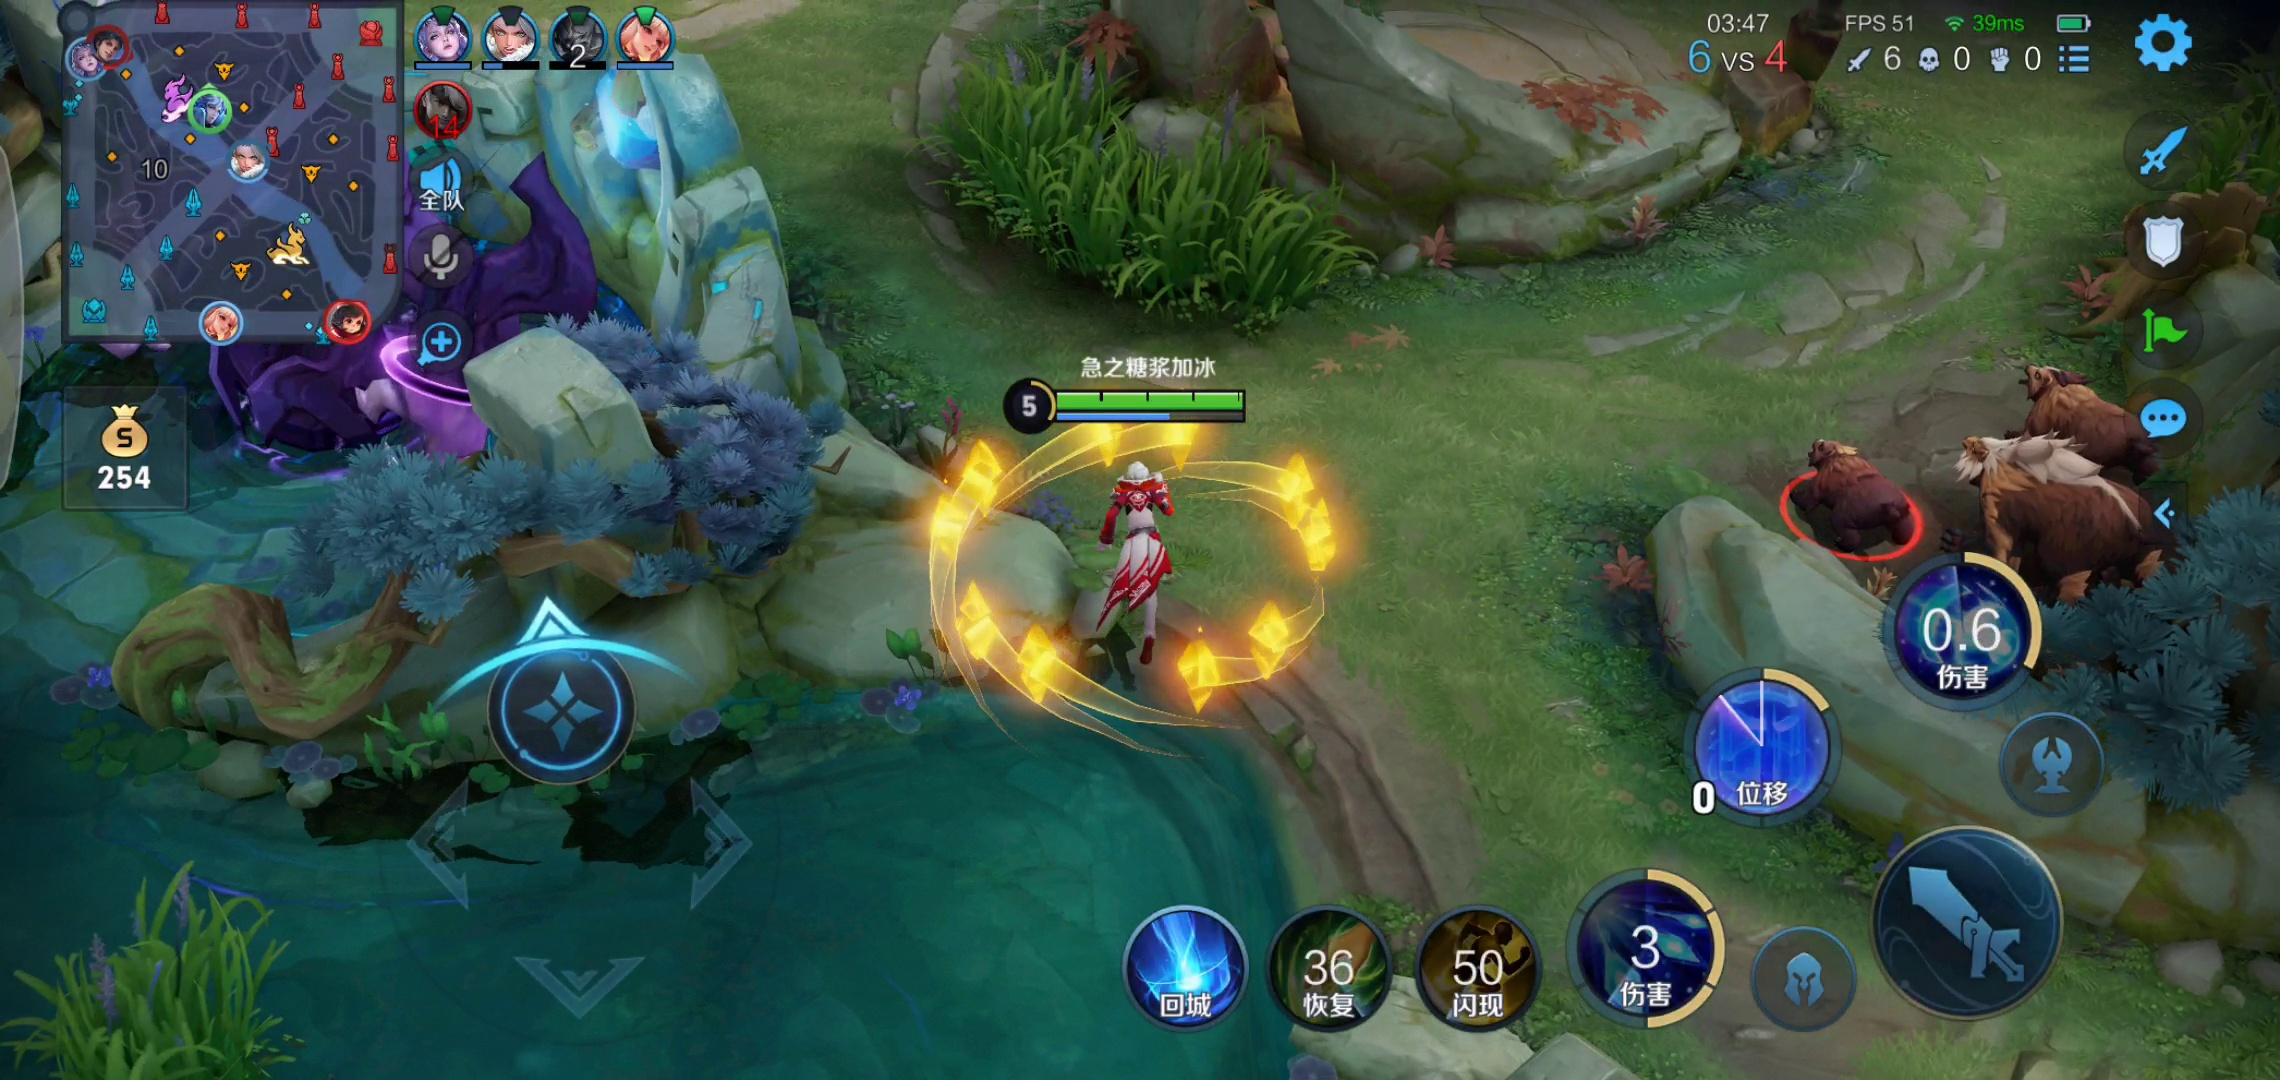dragon: (103, 55, 563, 481)
grass: (918, 51, 1329, 307), (9, 869, 313, 1080)
hero: (1040, 452, 1236, 661)
wild_monster: (1781, 313, 2165, 619)
